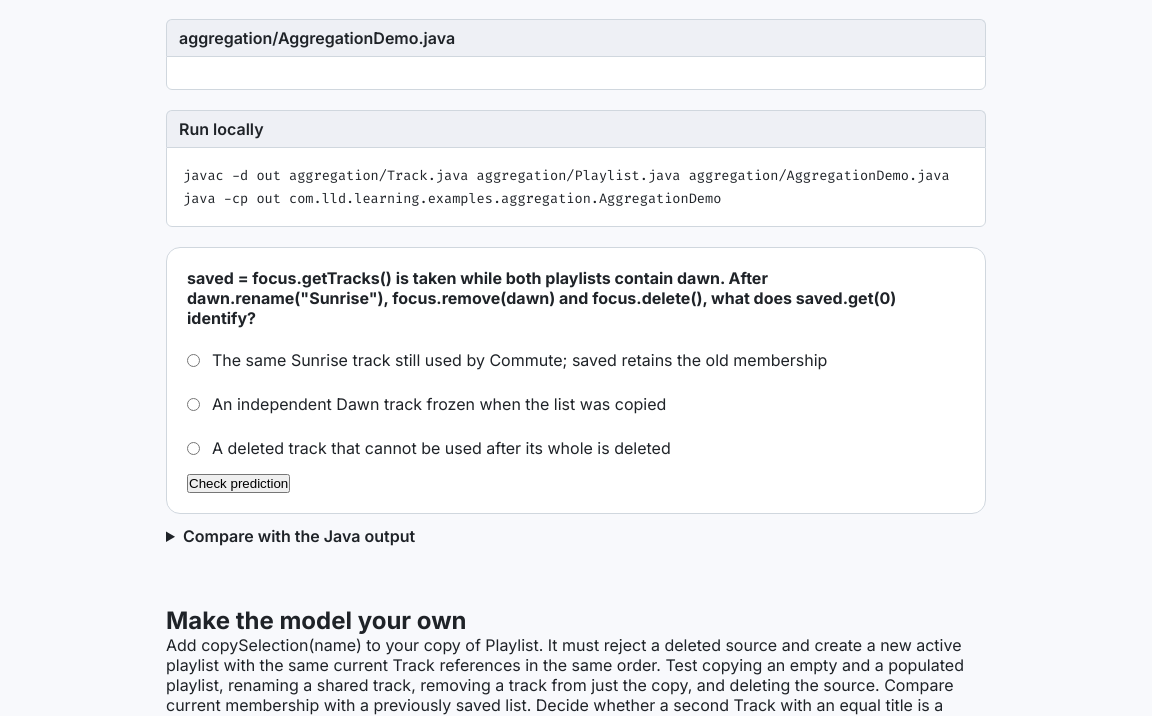
Test case: Aggregation whole/part lesson › gives feedback for every prediction and displays canonical output
The image size is (1152, 716).
(page scrolled)
Click the radio button labelled "The same Sunrise track still used by Commute; saved retains the old membership".
click(194, 361)  # box [187, 354, 200, 367]
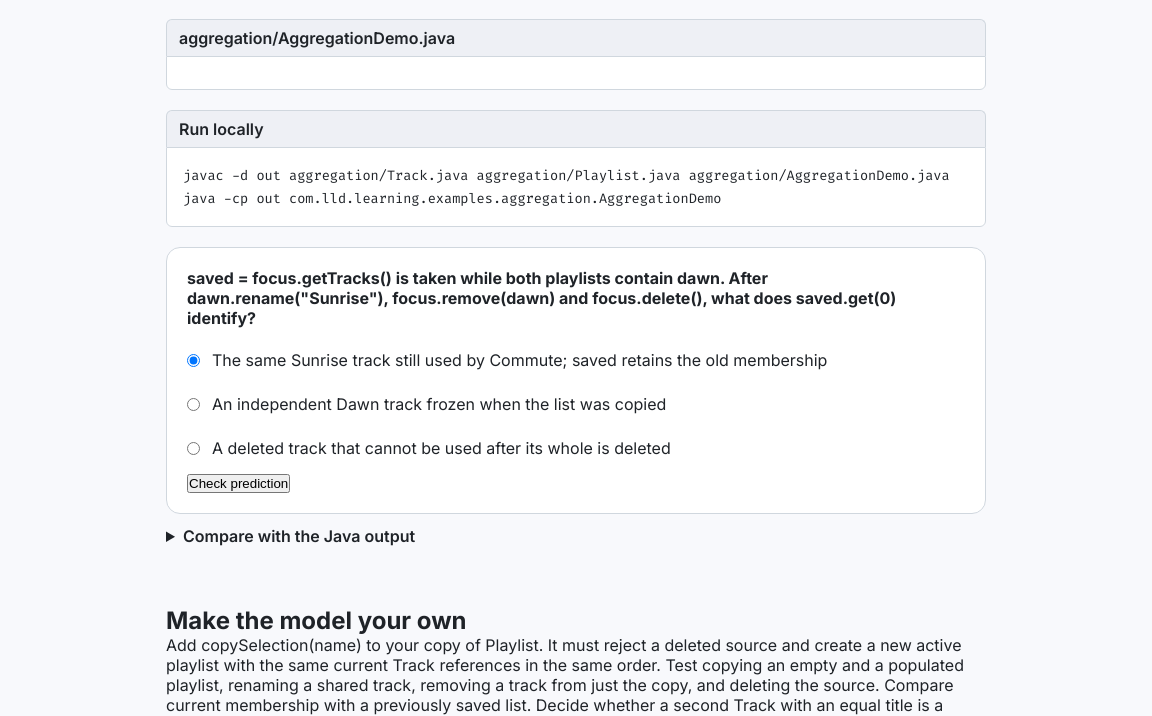
Click the button "Check prediction".
click(239, 484)  # box [187, 474, 290, 493]
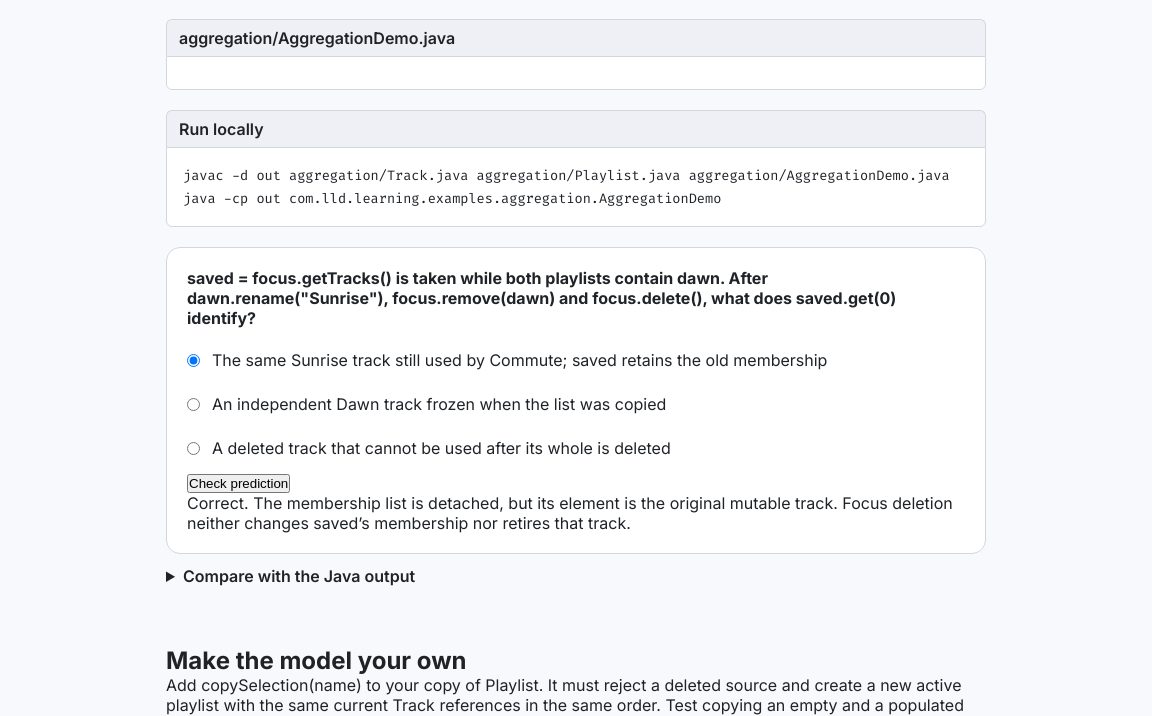
Now the text "Correct. The membership list is detached, but its element is the original mutable track. Focus deletion neither changes " is shown, box [187, 493, 953, 533]
Click the radio button labelled "An independent Dawn track frozen when the list was copied".
click(194, 405)  # box [187, 398, 200, 411]
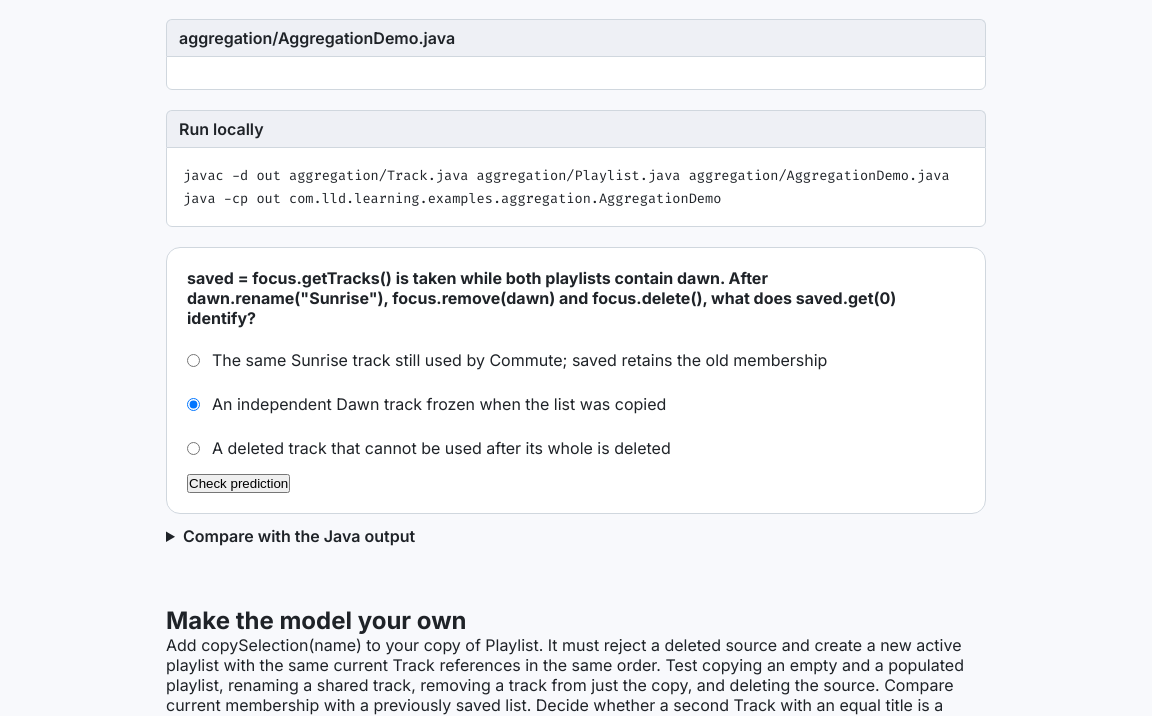
Click the button "Check prediction".
click(239, 484)  # box [187, 474, 290, 493]
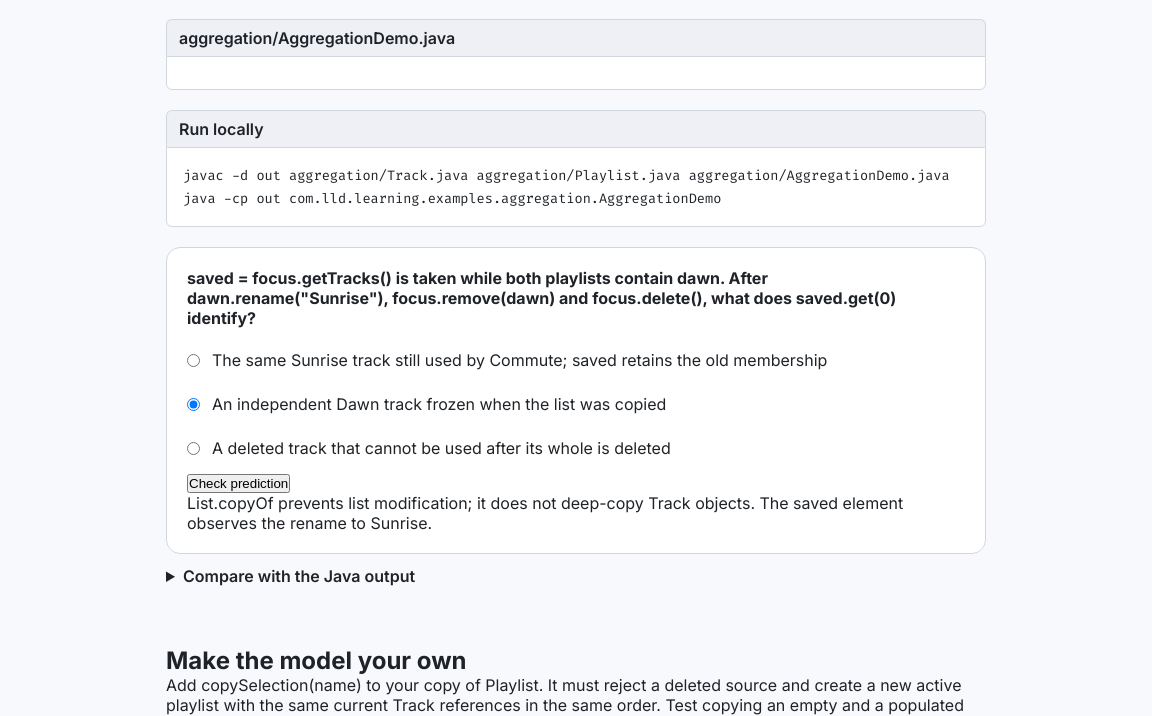
Now the text "List.copyOf prevents list modification; it does not deep-copy Track objects. The saved element observes the rename to Su" is shown, box [187, 493, 903, 533]
Click the radio button labelled "A deleted track that cannot be used after its whole is deleted".
click(194, 449)  # box [187, 442, 200, 455]
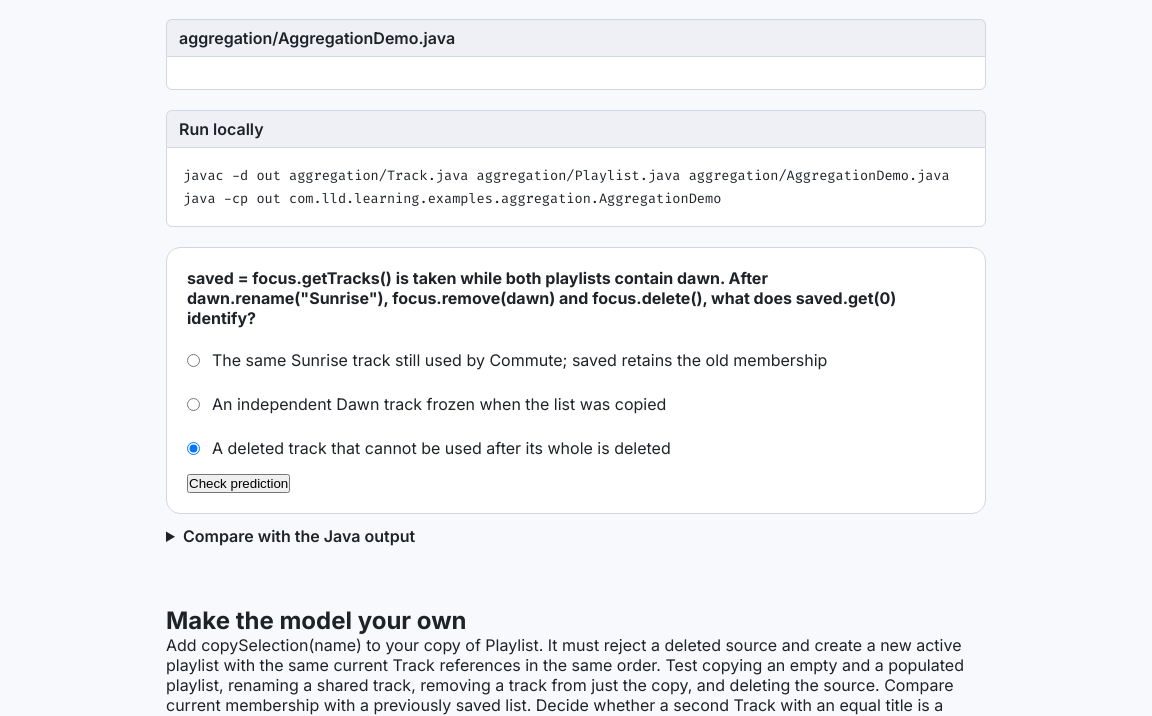
Click the button "Check prediction".
click(239, 484)  # box [187, 474, 290, 493]
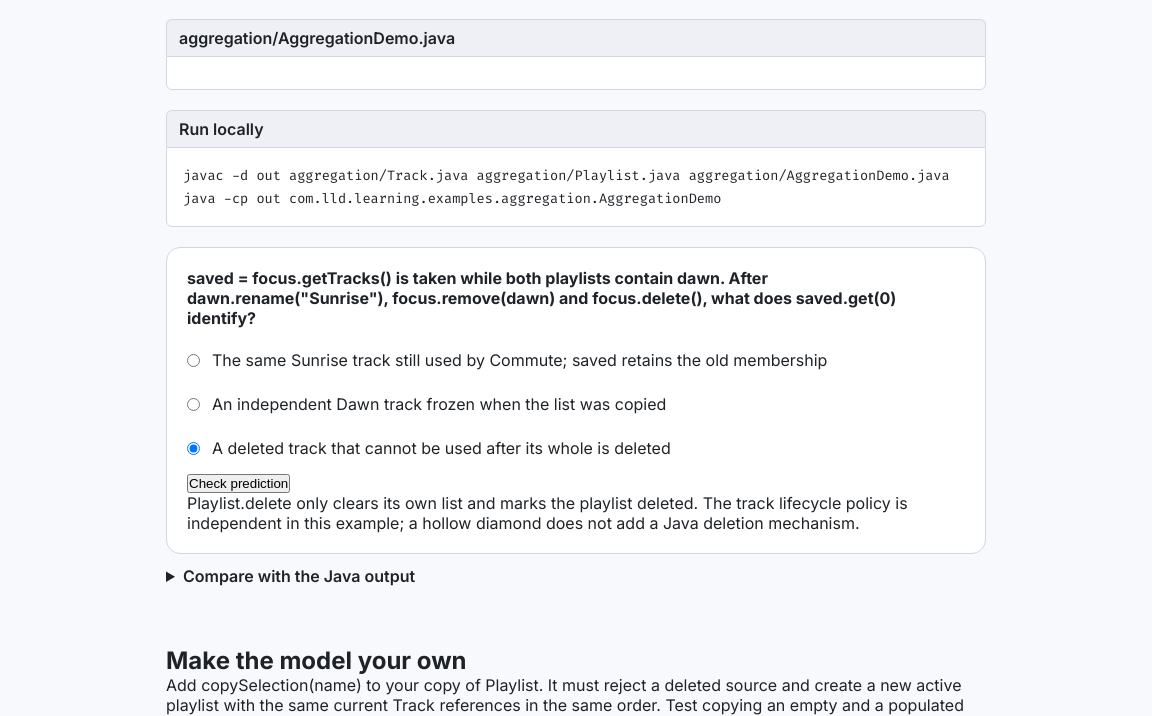
Now the text "Playlist.delete only clears its own list and marks the playlist deleted. The track lifecycle policy is independent in th" is shown, box [187, 493, 908, 533]
